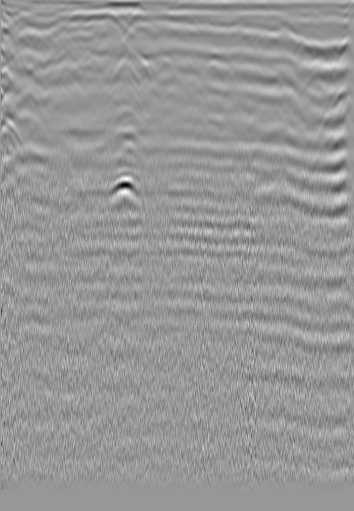가스: (102, 173, 139, 201)
상수: (14, 9, 34, 29)
오수: (285, 27, 305, 47)
우수: (159, 19, 179, 39)
